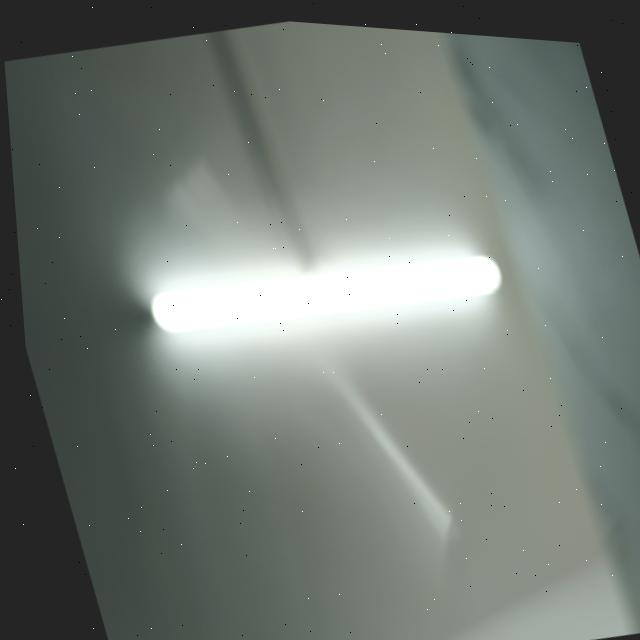light_on: (108, 184, 521, 395)
